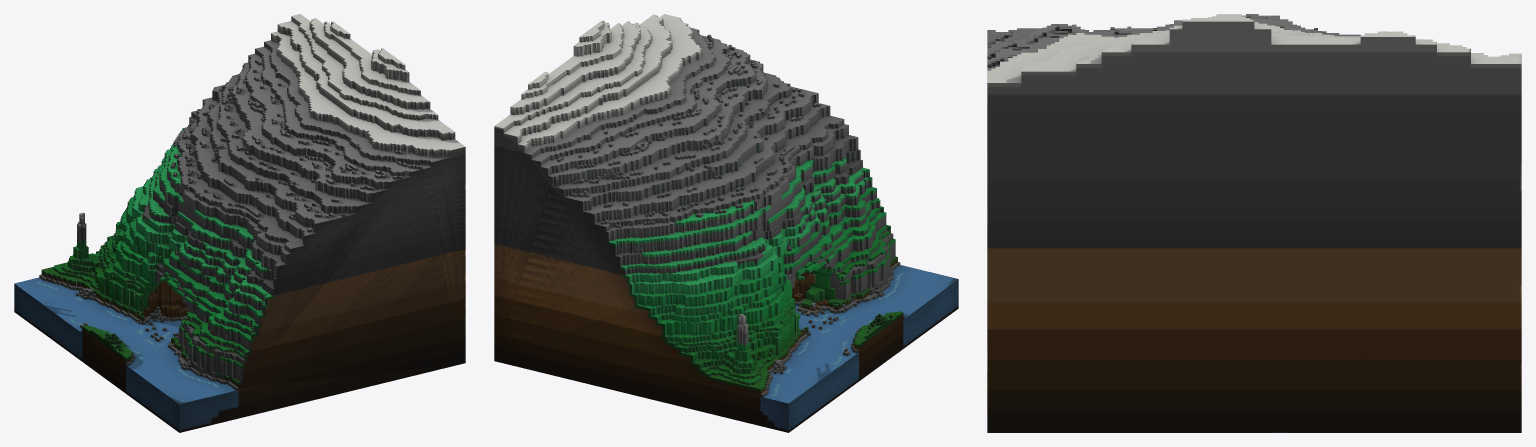
3 renders of one model, left to right at view 1: azimuth 30°, elevation 25°; view 2: azimuth 150°, elevation 25°; view 3: azimuth 270°, elevation 25°, orthographic. The views are drawn at different scales.
Visible parts, largest first — view 1: _E; view 2: _E; view 3: _E.
Part boxes in pixels (x1=…): _E: x1=14, y1=14, x2=465, y2=432; _E: x1=494, y1=14, x2=958, y2=432; _E: x1=987, y1=14, x2=1521, y2=432.
Size of the model in its own units: 126 by 126 by 107.
1 material, 1 textured.
